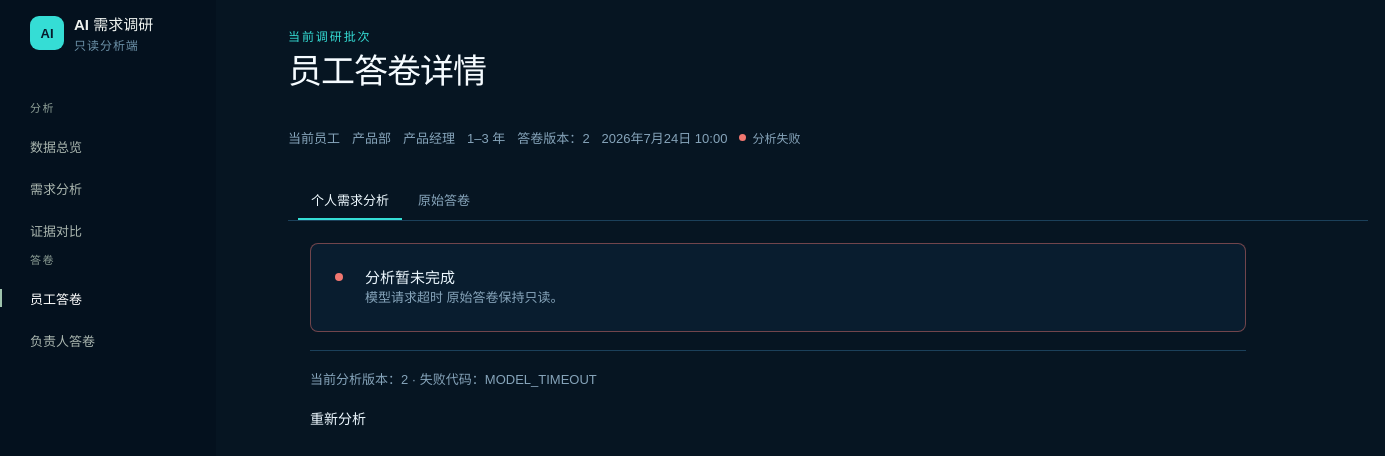
Test: 管理员点击重新分析后显示已受理并刷新分析状态
Click the button "重新分析" at (338, 418), box [310,396,366,440]
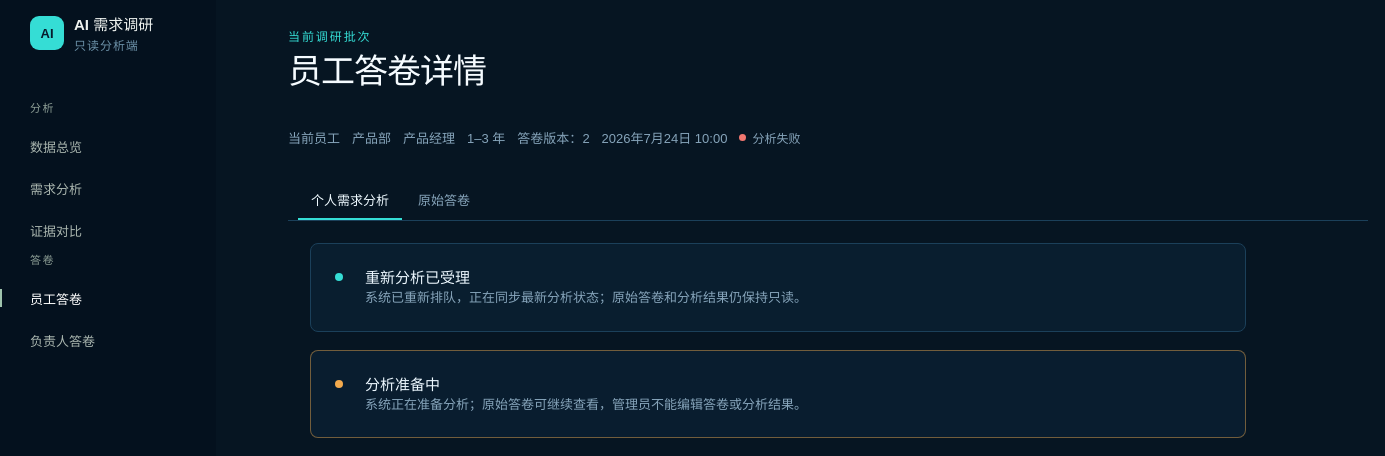
Expected: the heading "重新分析已受理" is shown, [365,269,470,286]
